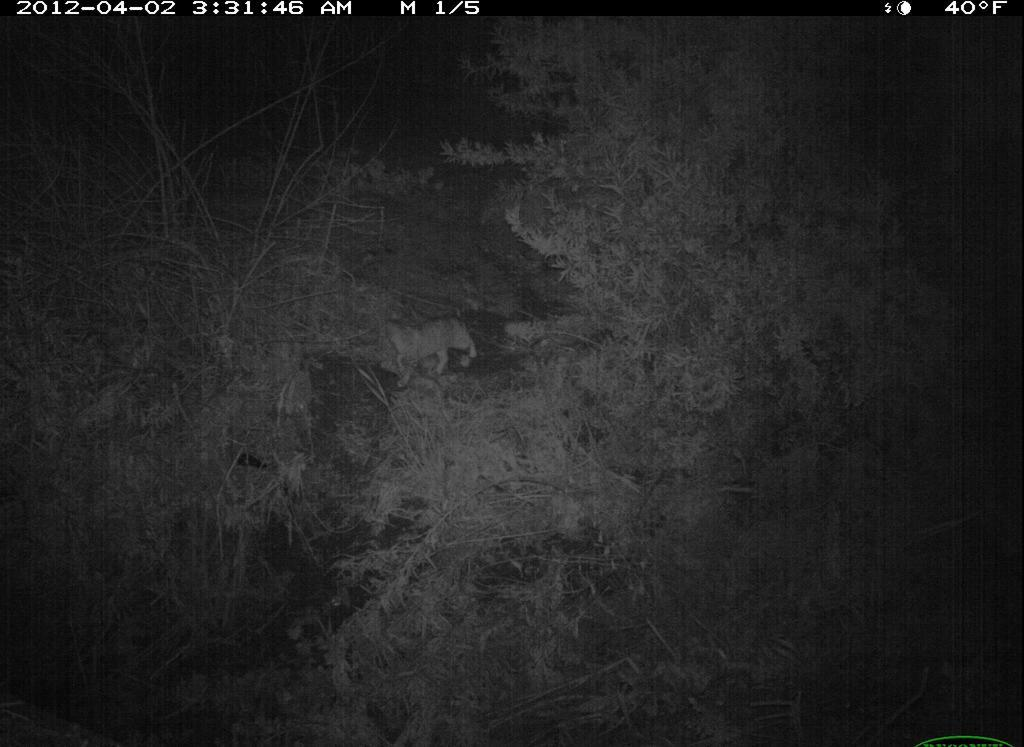cat: (377, 303, 483, 391)
